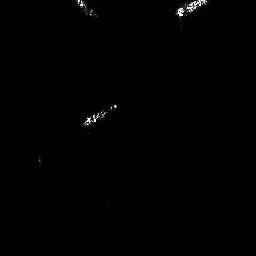ship: (82, 103, 117, 125), (177, 1, 207, 17), (76, 1, 93, 16)
